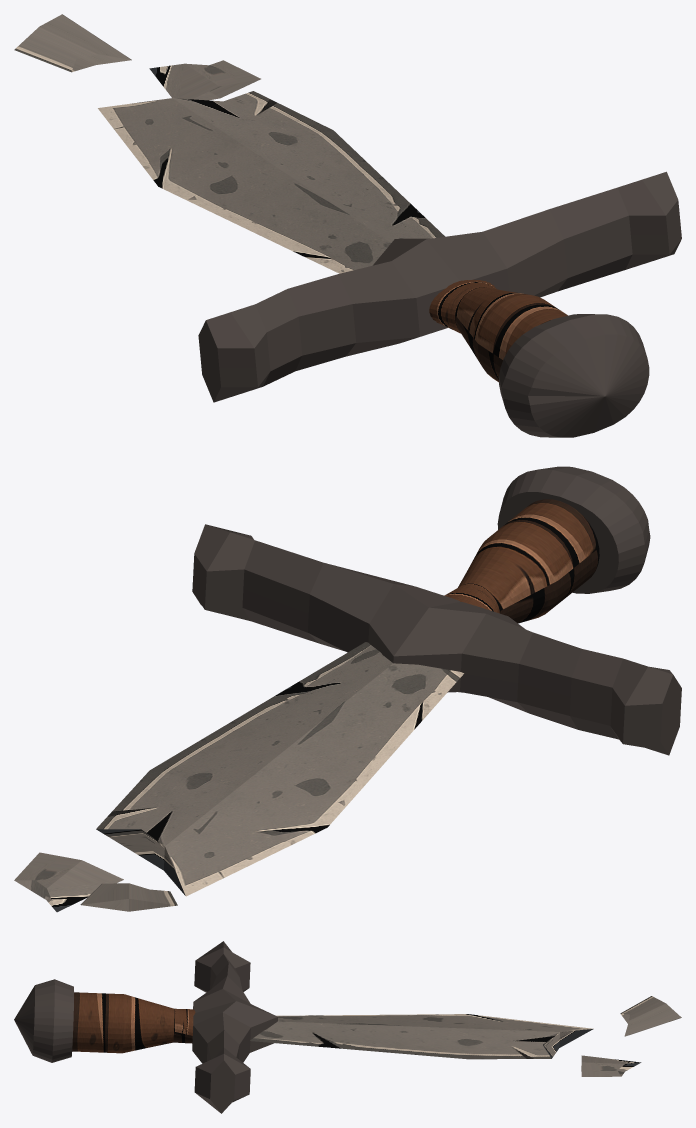
Rendered from DropItem_1.fbx.
3 views of the same model, one above another, from view 1: azimuth 30°, elevation 25°; view 2: azimuth 150°, elevation 25°; view 3: azimuth 270°, elevation 25° (orthographic). The views are drawn at different scales.
Parts seen in each view (by area): view 1: FBX_DropItem_1; view 2: FBX_DropItem_1; view 3: FBX_DropItem_1.
Part boxes in pixels (bbox=[...]): FBX_DropItem_1: bbox=[14, 14, 681, 437]; FBX_DropItem_1: bbox=[14, 466, 681, 912]; FBX_DropItem_1: bbox=[14, 941, 681, 1113].
Size of the model in its own units: 3340 by 852 by 6573.
